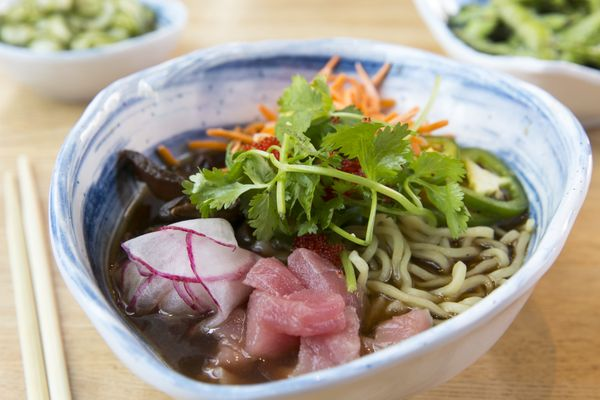sushi: (50, 35, 586, 394), (413, 1, 600, 130), (0, 1, 189, 104)
